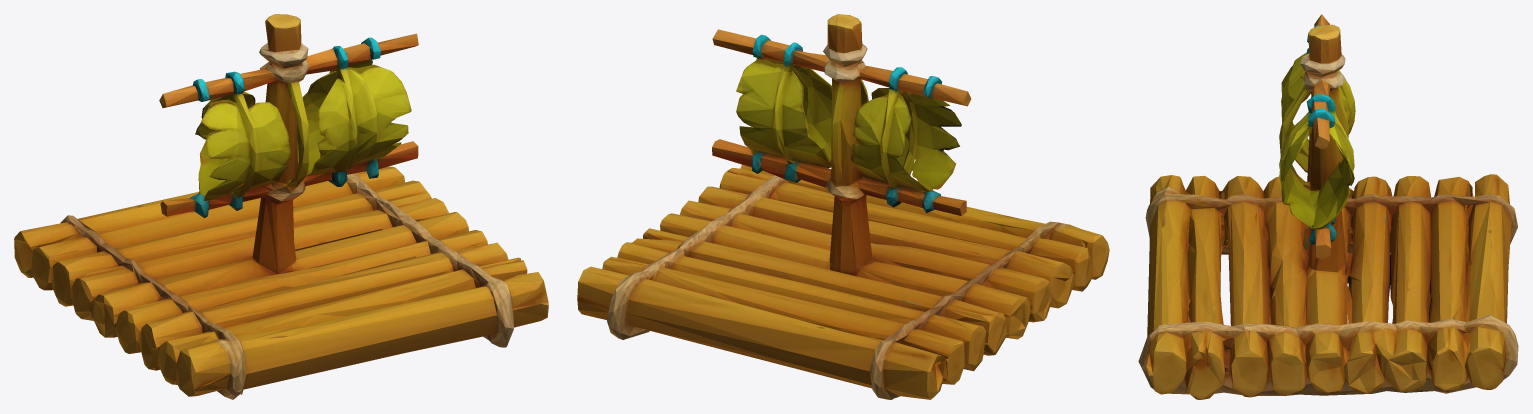
Rendered from raft.glb.
3 renders of one model, left to right at view 1: azimuth 30°, elevation 25°; view 2: azimuth 150°, elevation 25°; view 3: azimuth 270°, elevation 25°, orthographic.
Visible parts, largest first — view 1: geometry_0; view 2: geometry_0; view 3: geometry_0.
Boxes of the visible parts, bbox=[...] form: geometry_0: bbox=[14, 14, 548, 399]; geometry_0: bbox=[577, 14, 1109, 399]; geometry_0: bbox=[1138, 14, 1518, 399].
Size of the model in its own units: 0.992 by 0.7983 by 0.916.
Materials: 1 (1 with a texture image).
